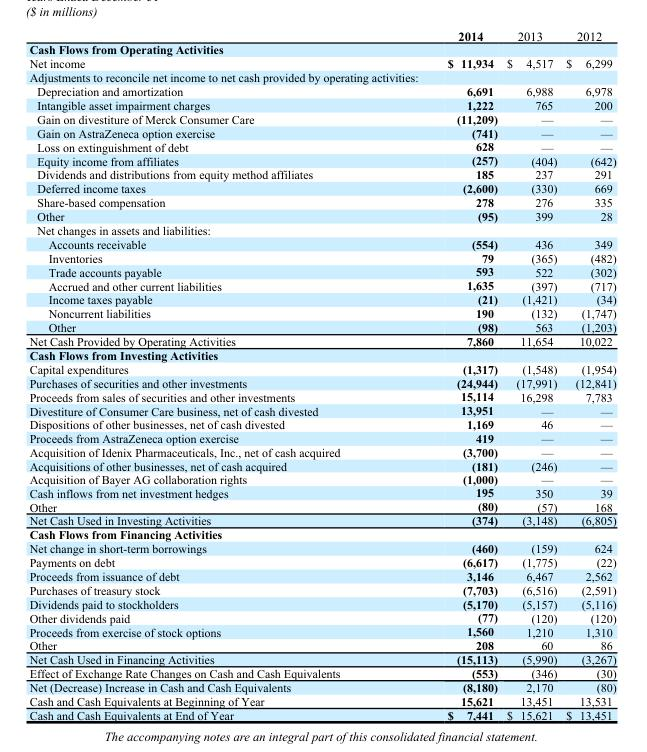table: (28, 28, 615, 721)
table column: (28, 28, 393, 721), (393, 28, 501, 721), (501, 28, 560, 721), (560, 28, 615, 721)
table column header: (28, 28, 615, 42)
table projected row header: (28, 42, 615, 56), (28, 70, 615, 84), (28, 347, 615, 361), (28, 223, 615, 236), (28, 527, 615, 540)
table row: (28, 28, 615, 42), (28, 42, 615, 56), (28, 56, 615, 70), (28, 70, 615, 84), (28, 97, 615, 111), (28, 111, 615, 125), (28, 125, 615, 139), (28, 139, 615, 153), (28, 153, 615, 167), (28, 167, 615, 181), (28, 181, 615, 195), (28, 195, 615, 209), (28, 209, 615, 223), (28, 236, 615, 250), (28, 250, 615, 264), (28, 264, 615, 278), (28, 278, 615, 292), (28, 292, 615, 306), (28, 306, 615, 320), (28, 320, 615, 334), (28, 347, 615, 361), (28, 361, 615, 375), (28, 375, 615, 389), (28, 389, 615, 403), (28, 403, 615, 417), (28, 417, 615, 431), (28, 431, 615, 445), (28, 445, 615, 459), (28, 485, 615, 499), (28, 499, 615, 513), (28, 513, 615, 527), (28, 540, 615, 554), (28, 554, 615, 568), (28, 568, 615, 582), (28, 582, 615, 596), (28, 596, 615, 610), (28, 610, 615, 624), (28, 624, 615, 638), (28, 638, 615, 652), (28, 652, 615, 666), (28, 679, 615, 693), (28, 693, 615, 707), (28, 707, 615, 721), (28, 84, 615, 97), (28, 223, 615, 236), (28, 334, 615, 347), (28, 459, 615, 472), (28, 472, 615, 485), (28, 527, 615, 540), (28, 666, 615, 679)
